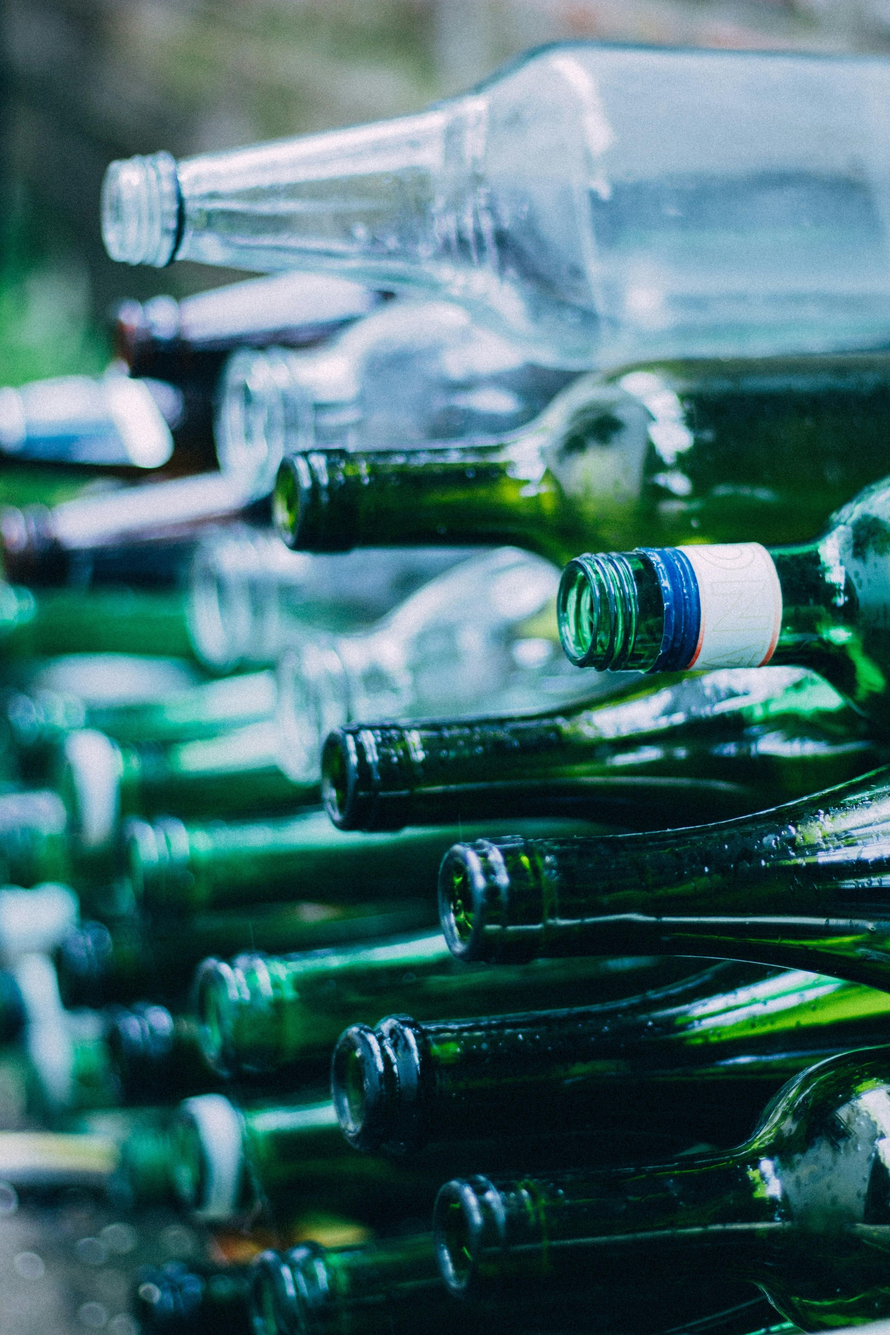Bottle-Detection: (80, 13, 890, 363), (294, 757, 890, 997), (209, 361, 890, 567), (191, 662, 890, 852), (487, 471, 890, 688)
bottlr: (234, 940, 890, 1179), (386, 1028, 890, 1335)
